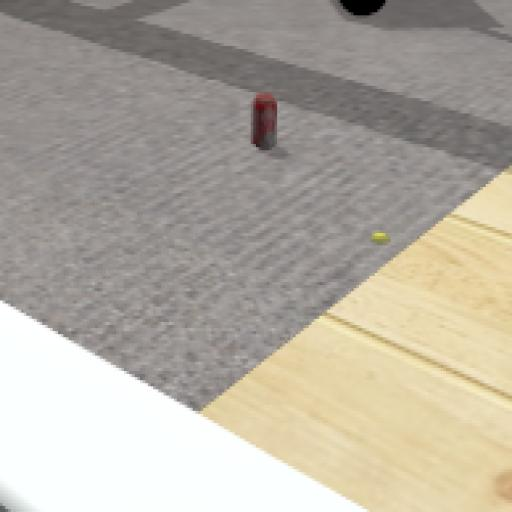COCA: (210, 44, 321, 204)
